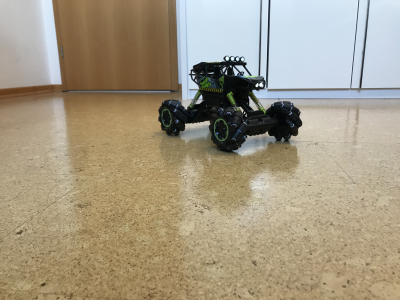remote control car: (155, 52, 304, 153)
